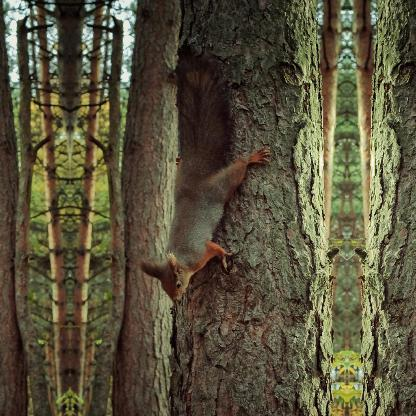Squirrel: (138, 58, 270, 302)
